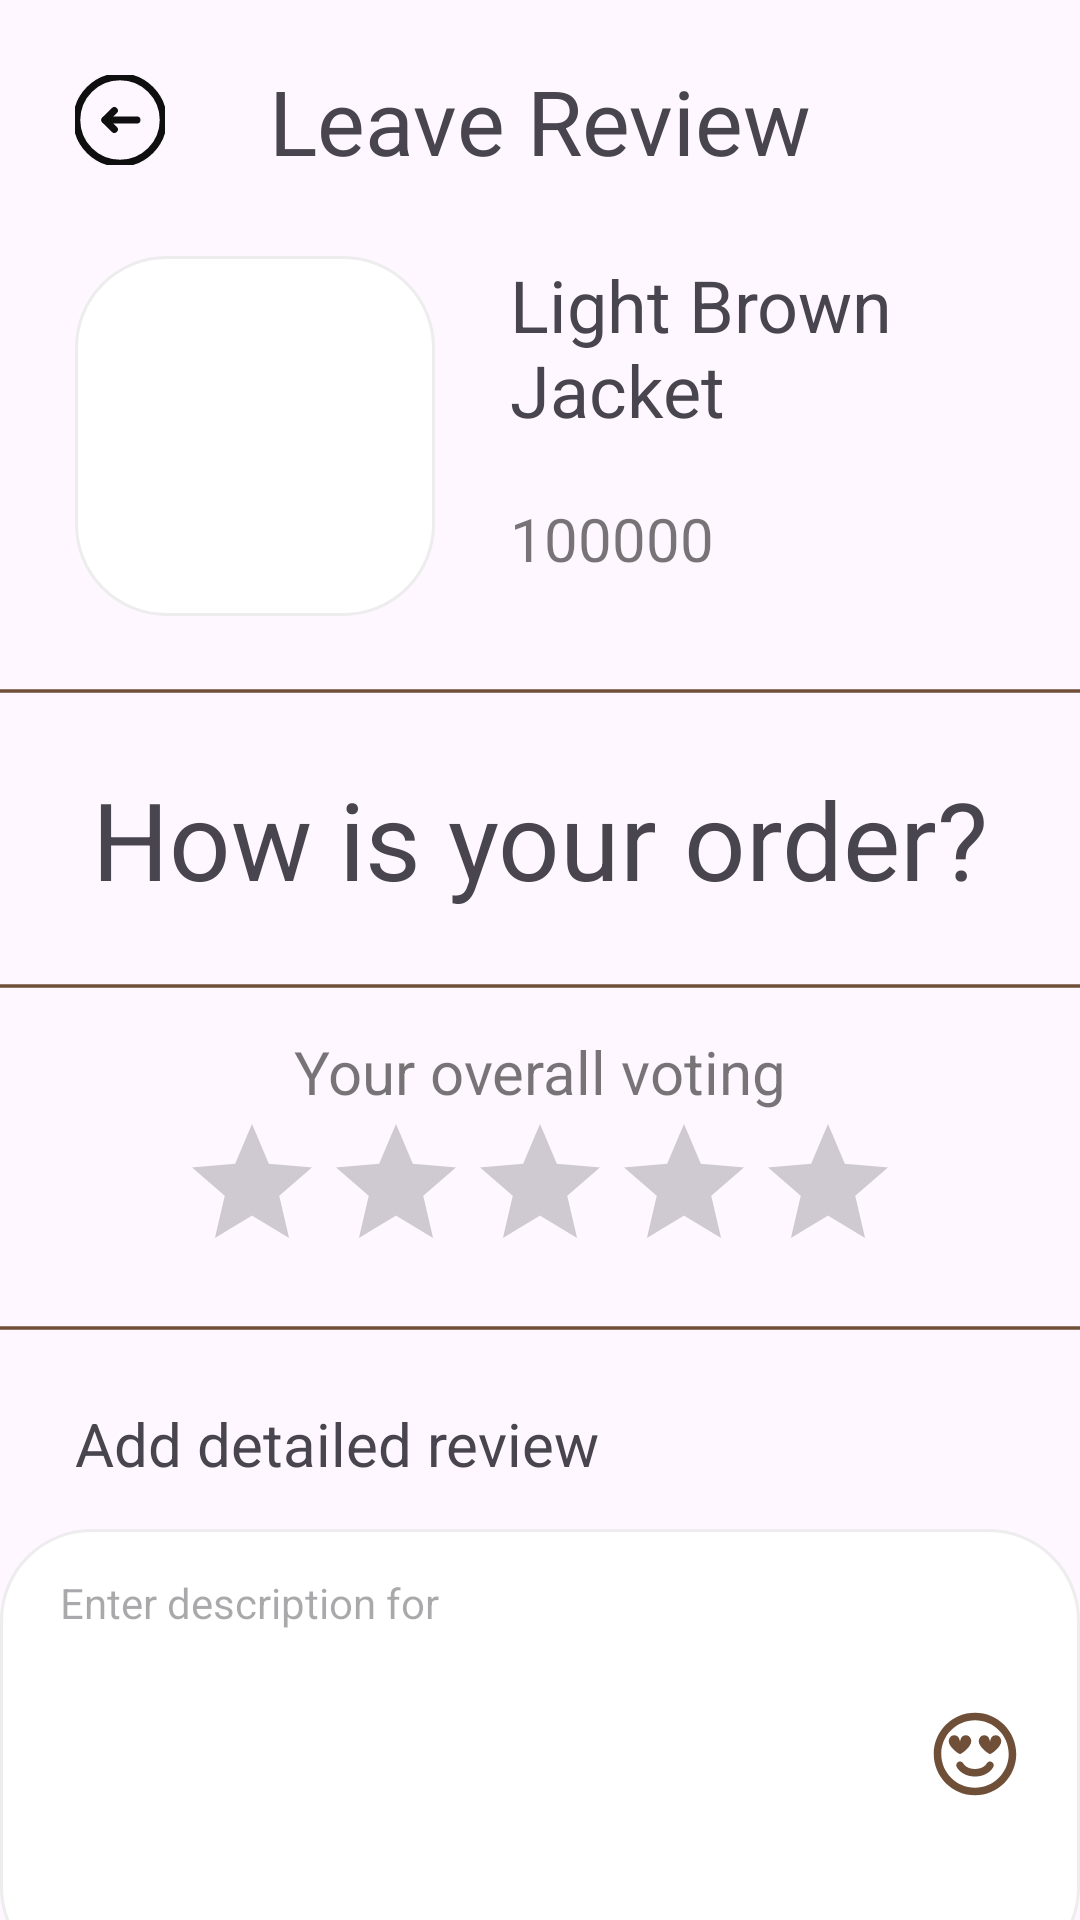

Icon click points for this 1080×1920 phone screenshot, format [x,y]:
back: [120,120]
